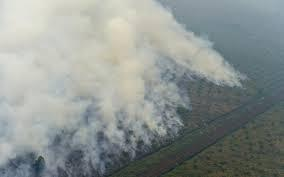yanwu: (1, 0, 248, 174)
